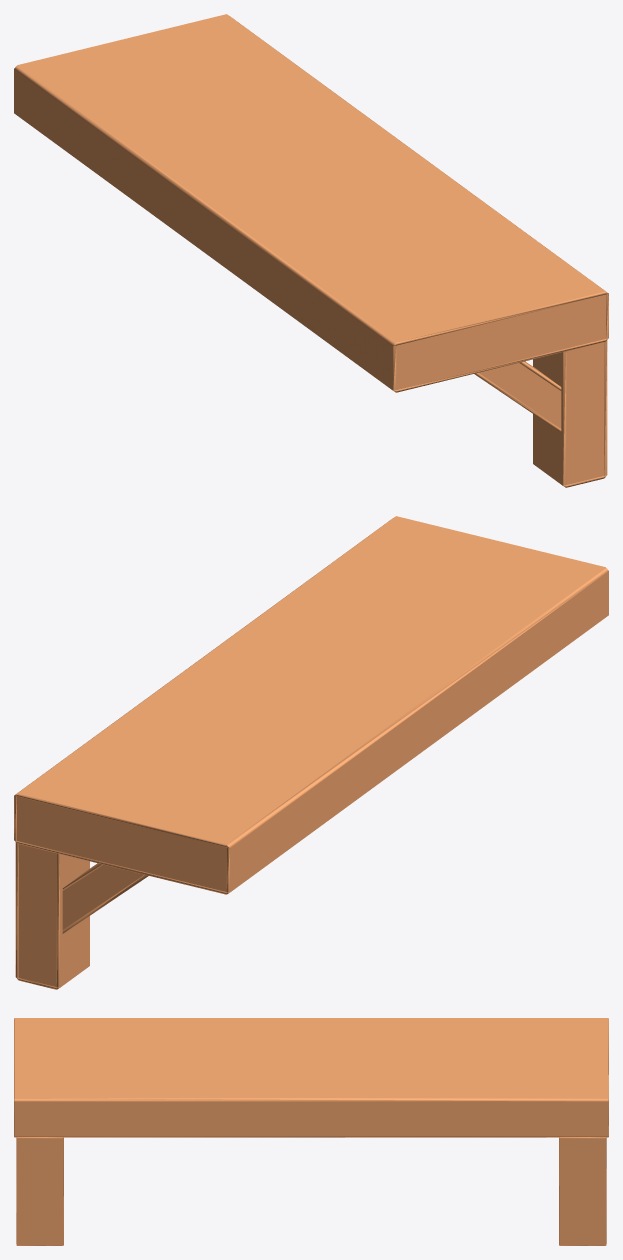
The model's file is rak_bawah.obj.
3 views of the same model, one above another, from view 1: azimuth 30°, elevation 25°; view 2: azimuth 150°, elevation 25°; view 3: azimuth 270°, elevation 25° (orthographic). The views are drawn at different scales.
Visible parts, largest first — view 1: Hang_shelf_Cube.072; view 2: Hang_shelf_Cube.072; view 3: Hang_shelf_Cube.072.
Part boxes in pixels (bbox=[...]): Hang_shelf_Cube.072: bbox=[14, 14, 608, 487]; Hang_shelf_Cube.072: bbox=[14, 516, 608, 989]; Hang_shelf_Cube.072: bbox=[14, 1018, 608, 1245].
Size of the model in its own units: 0.6679 by 0.5562 by 2.03.
